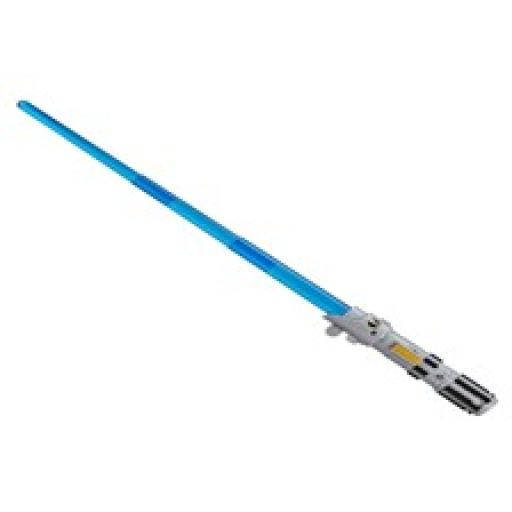lightsaber: (12, 98, 500, 419)
